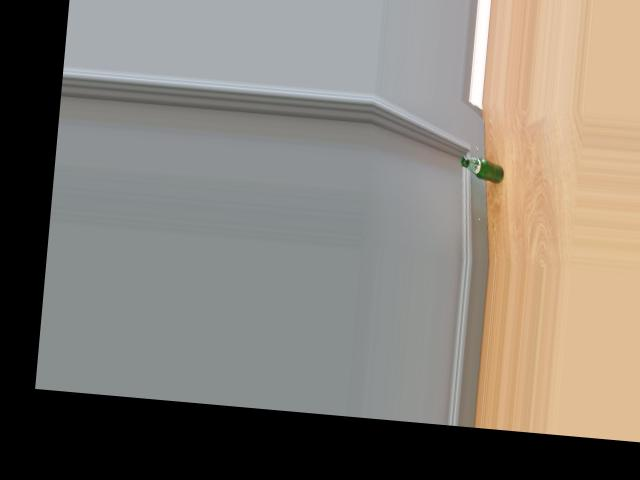beer: (460, 157, 504, 183)
